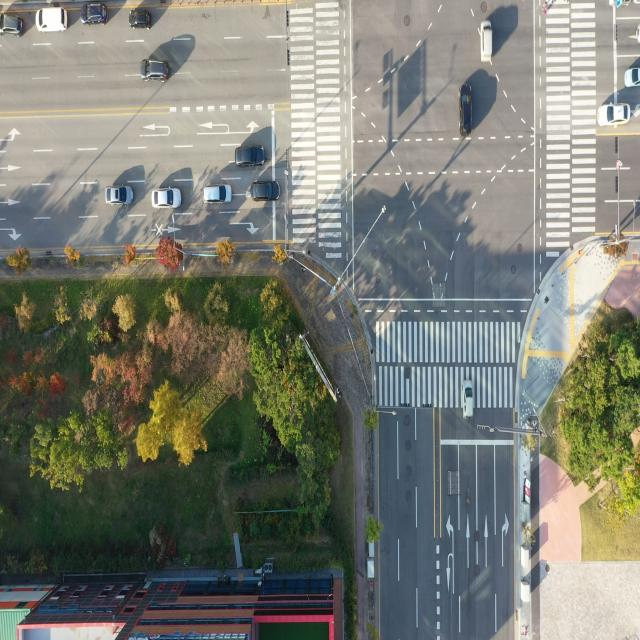car: (456, 82, 475, 137), (594, 101, 630, 128), (38, 5, 71, 33), (79, 4, 111, 26), (142, 60, 170, 84), (0, 10, 24, 38), (480, 17, 494, 64), (235, 146, 264, 168), (251, 181, 279, 203), (154, 187, 182, 209), (204, 185, 232, 205), (105, 186, 132, 206), (129, 10, 152, 31), (462, 383, 474, 420), (625, 68, 640, 88)
